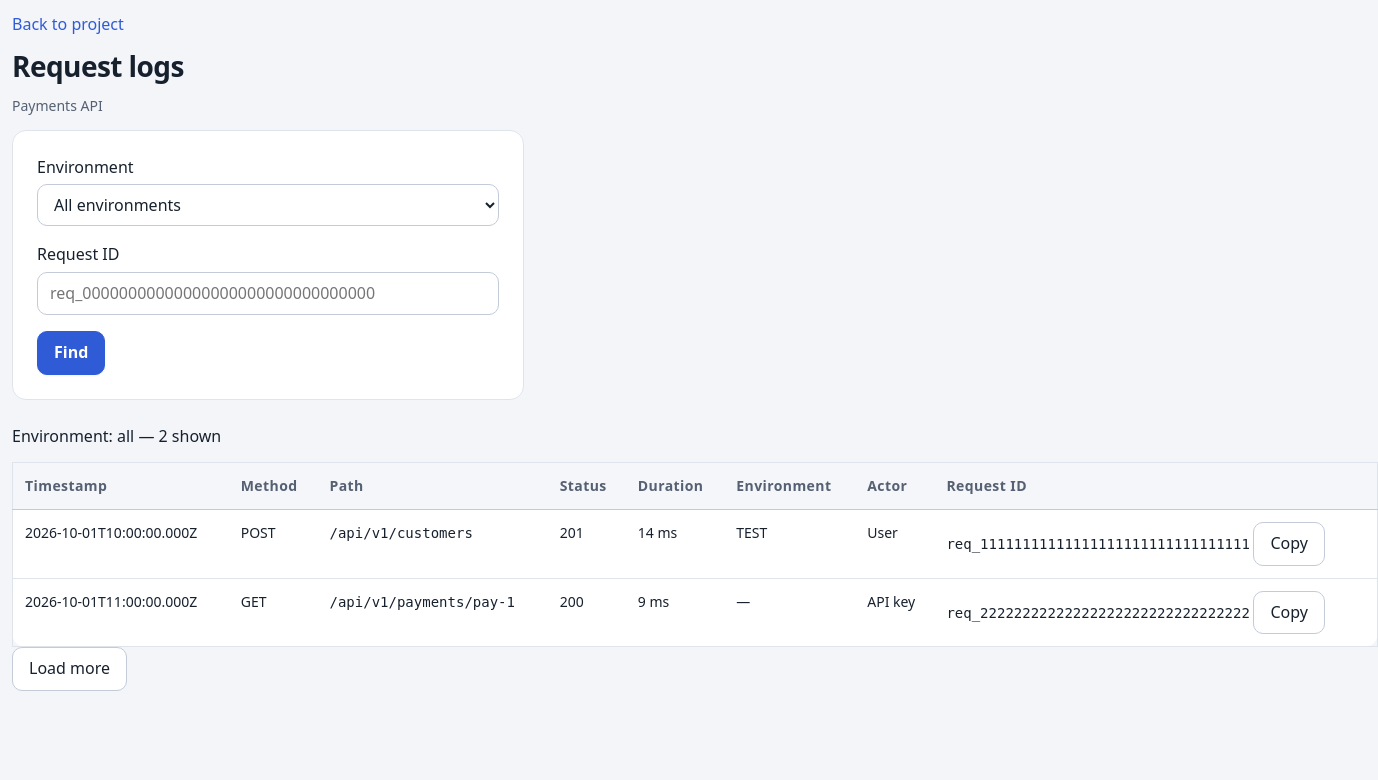
Test: request logs page (phase 11 §7) › answers an unknown but well-formed request id with an explicit empty state, never a 404
expect the table named "Request logs" is shown: met, box [12,462,1377,647]
Step 1. Type "req_99999999999999999999999999999999" into the field labelled "Request ID" → [268, 294], box [37,272,499,315]
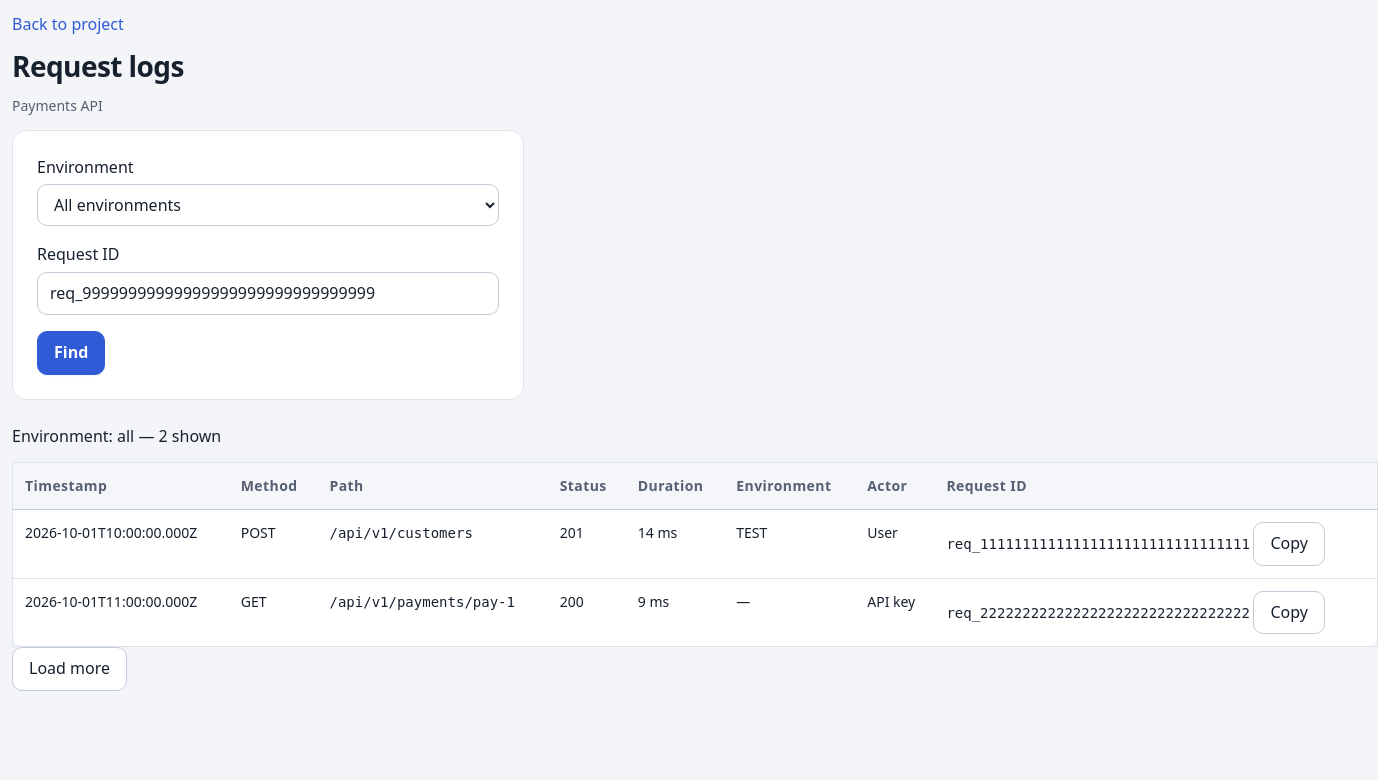
Step 2. Click the button "Find" → [71, 353], box [37,331,105,375]
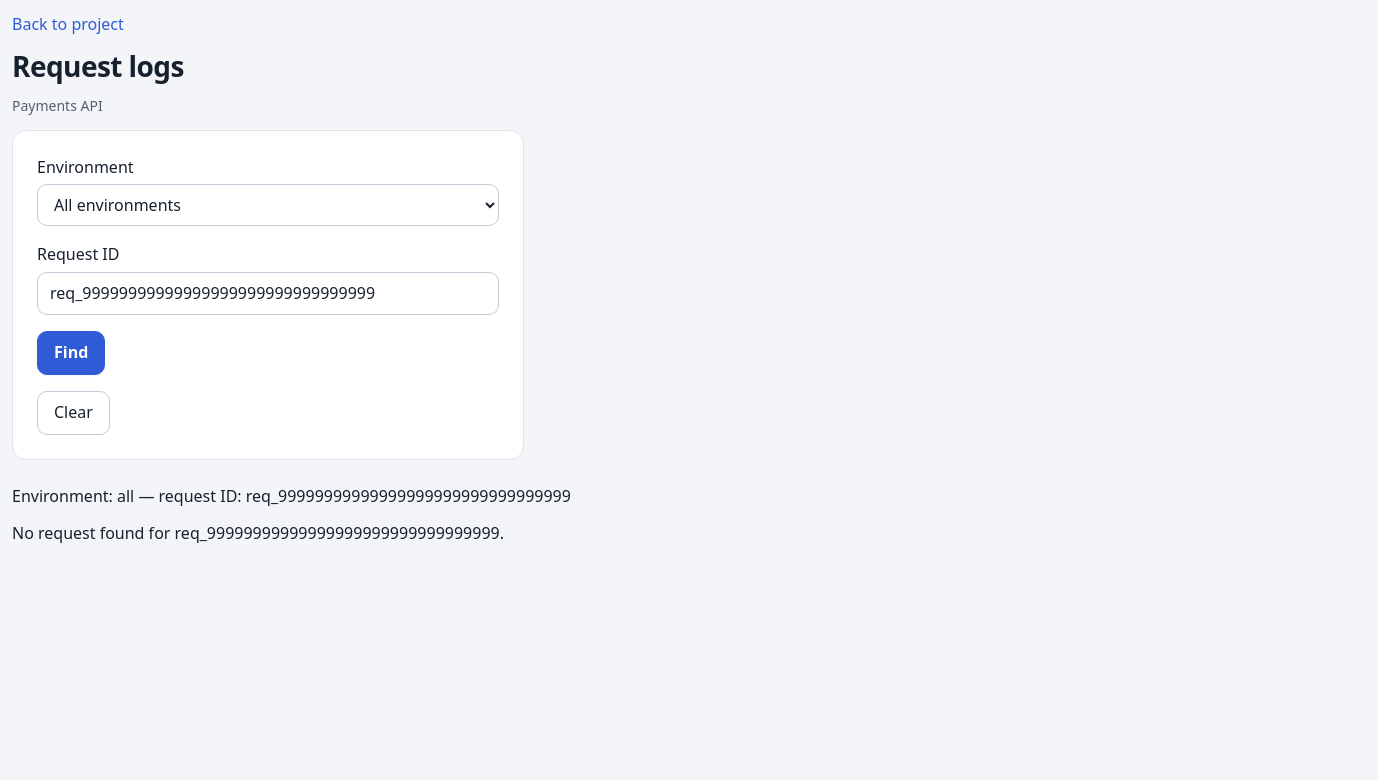
expect the table is gone: met
